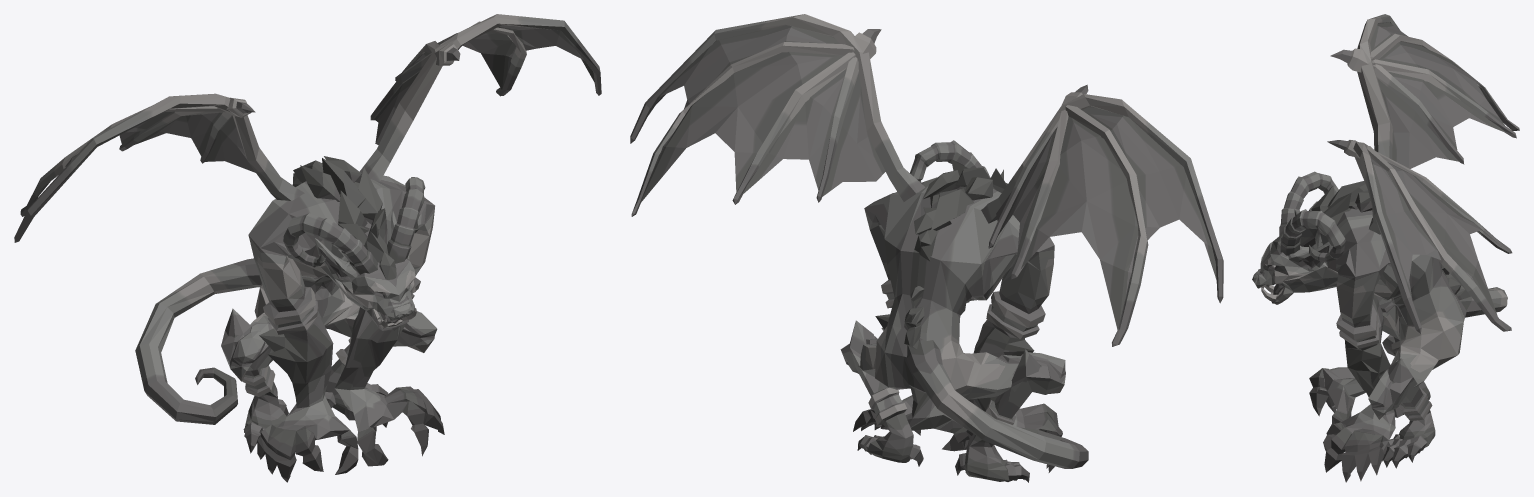
Rendered from crypt_gargoyle.gltf.
3 views of the same model, side by side, from view 1: azimuth 30°, elevation 25°; view 2: azimuth 150°, elevation 25°; view 3: azimuth 270°, elevation 25° (orthographic). The views are drawn at different scales.
Visible parts, largest first — view 1: crypt_gargoyle; view 2: crypt_gargoyle; view 3: crypt_gargoyle.
Boxes of the visible parts, box(x1,y1,x2,y2) form: crypt_gargoyle: box(14, 14, 601, 482); crypt_gargoyle: box(630, 14, 1223, 482); crypt_gargoyle: box(1252, 14, 1519, 482).
Size of the model in its own units: 2.45 by 1.63 by 1.09.
Materials: 1 (1 with a texture image).
